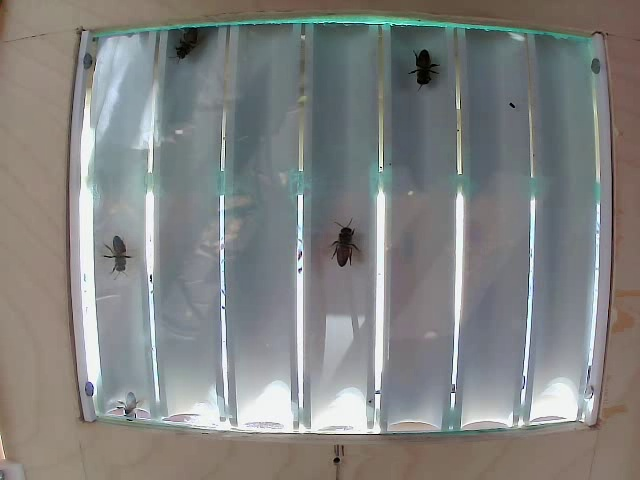bee: (322, 212, 370, 261), (401, 51, 450, 99), (93, 247, 133, 274)
